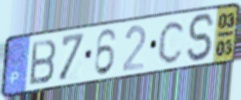2: (121, 23, 148, 73)
6: (93, 27, 118, 78)
7: (59, 32, 86, 84)
B: (28, 37, 58, 88)
C: (157, 19, 188, 66)
S: (186, 11, 217, 64)
